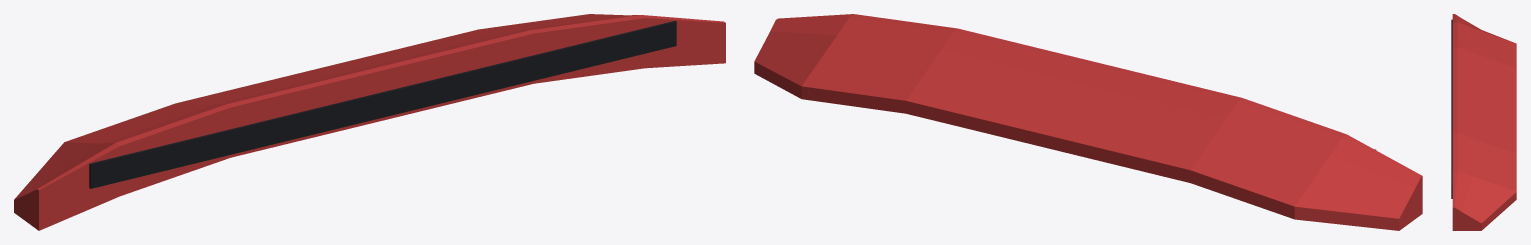
File: spoiler_lip.glb
3 views of the same model, side by side, from view 1: azimuth 30°, elevation 25°; view 2: azimuth 150°, elevation 25°; view 3: azimuth 270°, elevation 25° (orthographic). The views are drawn at different scales.
Parts seen in each view (by area): view 1: Body; view 2: Body; view 3: Body.
Boxes of the visible parts, x1,y1,x2,y2 form: Body: (14,14,725,230); Body: (754,14,1422,230); Body: (1451,14,1516,230).
Size of the model in its own units: 1.36 by 0.145 by 0.1945.
